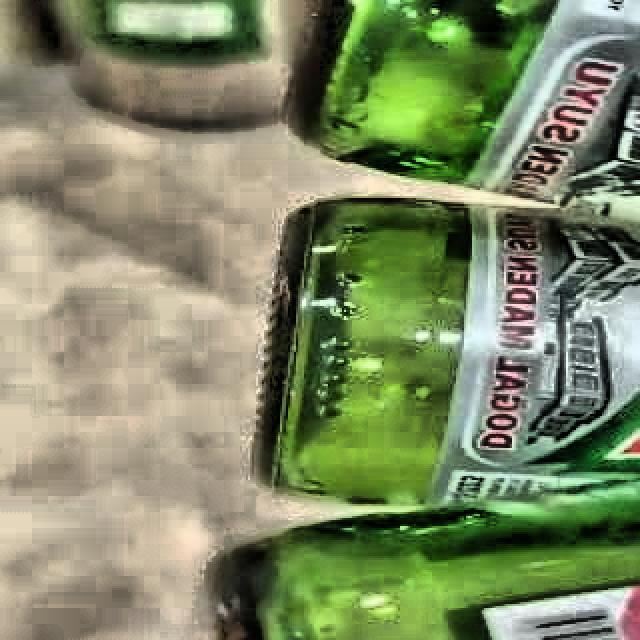glass: (212, 0, 640, 640)
